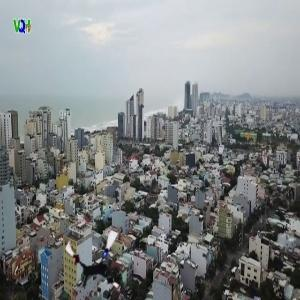drone: (62, 224, 135, 297)
